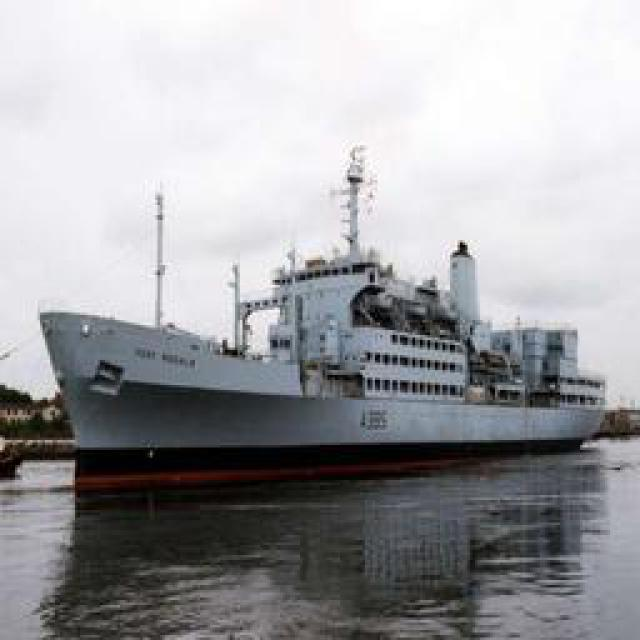Ship: (41, 161, 601, 456)
